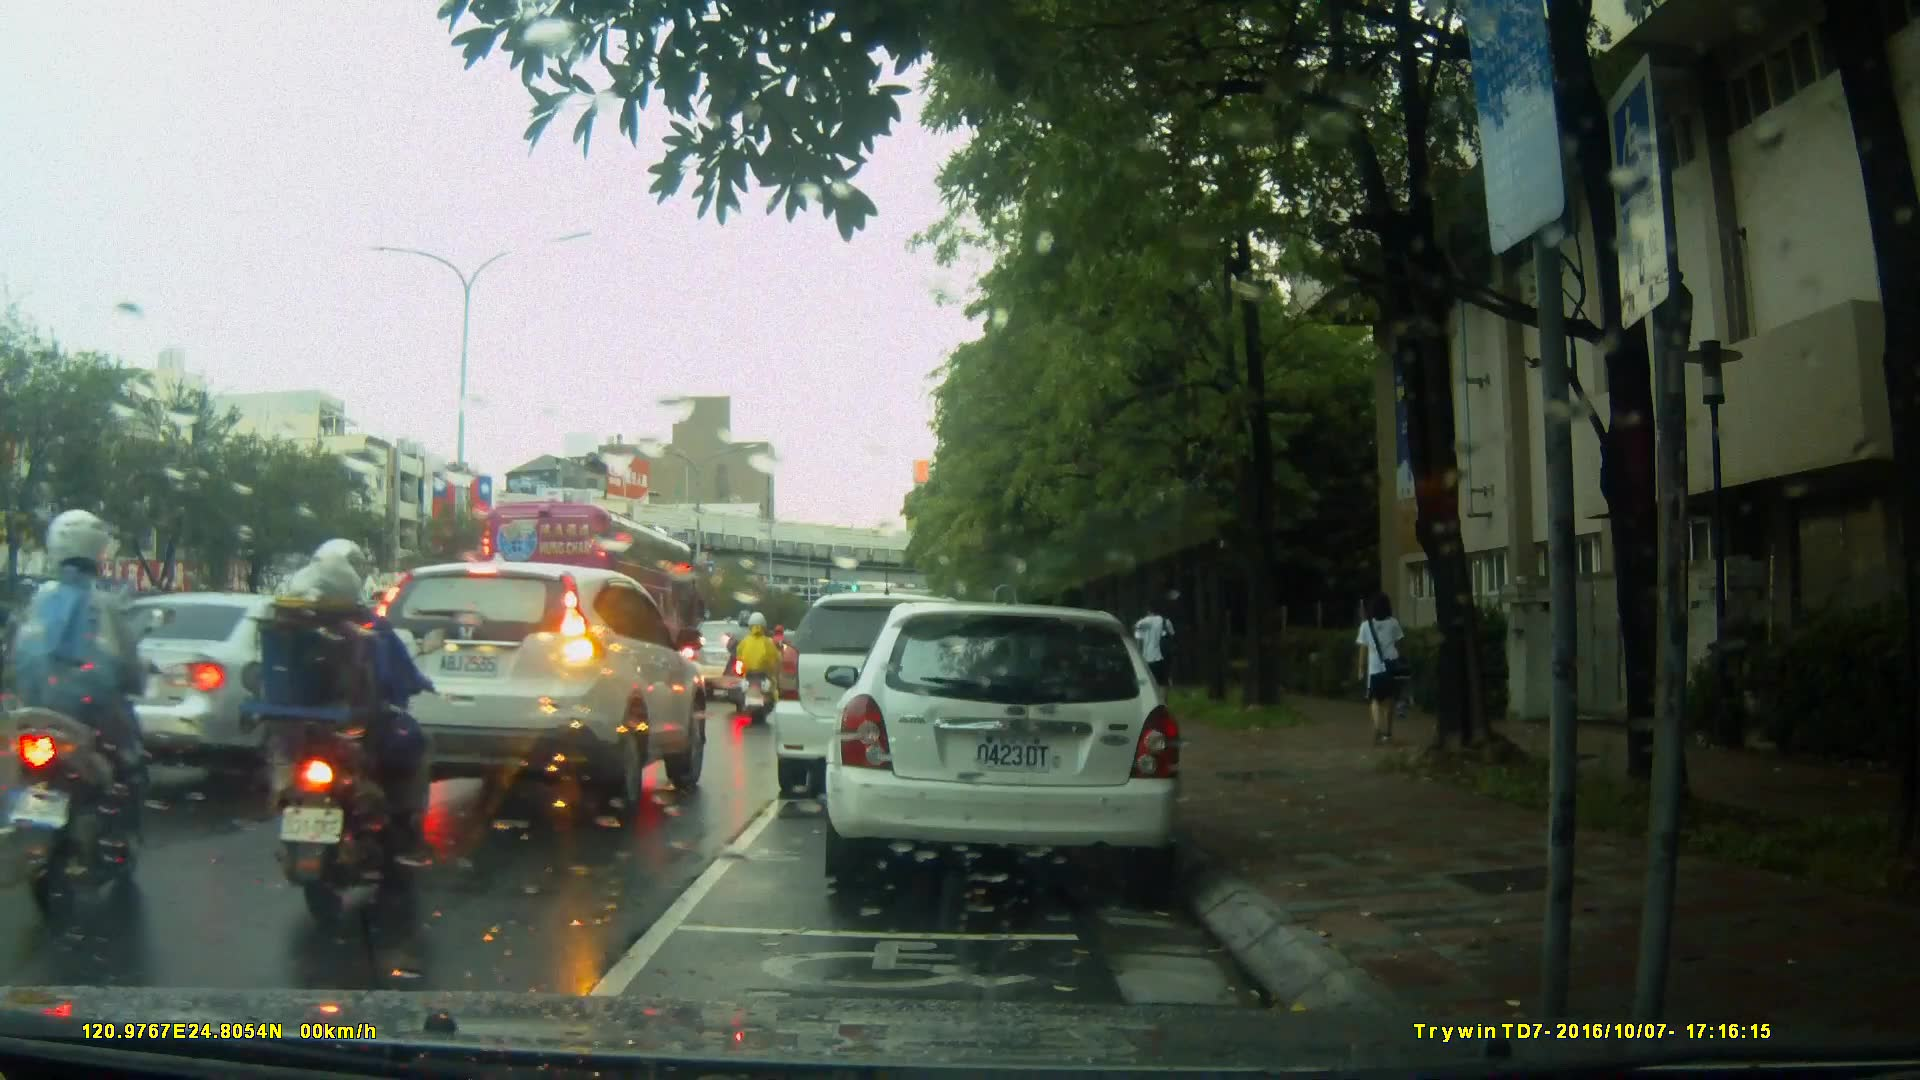pedestrian: (1346, 582, 1421, 762), (1129, 596, 1175, 709)
rider: (233, 530, 438, 938), (1, 511, 157, 927), (737, 612, 779, 723), (728, 605, 767, 714)
vehicle: (835, 594, 1194, 898), (368, 561, 715, 812), (110, 584, 402, 776), (776, 590, 1026, 784), (477, 497, 721, 659), (681, 619, 781, 704)
